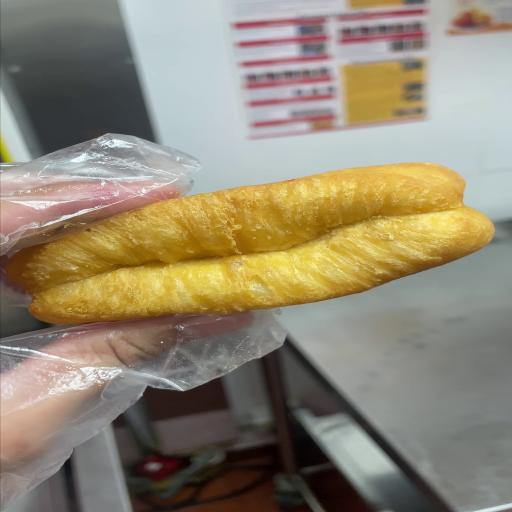brand_golden_good: (7, 163, 492, 323)
